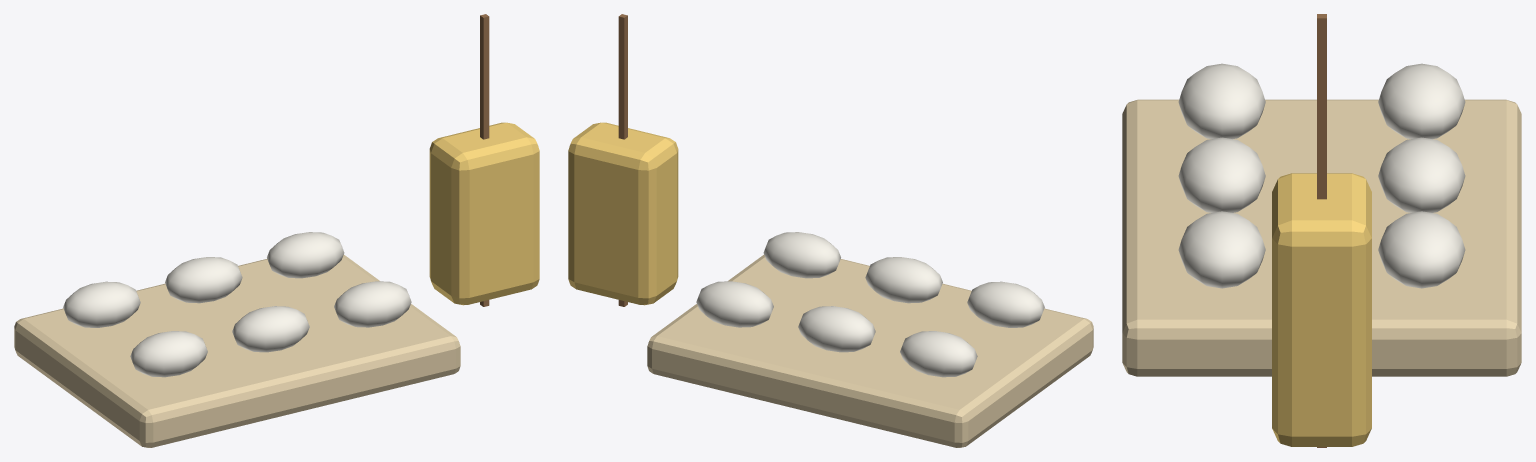
File: DumplingFishcake_blockout.glb
3 renders of one model, left to right at view 1: azimuth 30°, elevation 25°; view 2: azimuth 150°, elevation 25°; view 3: azimuth 270°, elevation 25°, orthographic. The views are drawn at different scales.
Visible parts, largest first — view 1: FOOD10_DumplingFishcake_Box_L0, FOOD10_DumplingFishcake_Fishcake_L0, FOOD10_DumplingFishcake_Dumpling2_L0, FOOD10_DumplingFishcake_Dumpling5_L0, FOOD10_DumplingFishcake_Dumpling1_L0, FOOD10_DumplingFishcake_Dumpling4_L0, FOOD10_DumplingFishcake_Dumpling0_L0, FOOD10_DumplingFishcake_Dumpling3_L0, FOOD10_DumplingFishcake_Skewer_L0; view 2: FOOD10_DumplingFishcake_Box_L0, FOOD10_DumplingFishcake_Fishcake_L0, FOOD10_DumplingFishcake_Dumpling5_L0, FOOD10_DumplingFishcake_Dumpling2_L0, FOOD10_DumplingFishcake_Dumpling4_L0, FOOD10_DumplingFishcake_Dumpling1_L0, FOOD10_DumplingFishcake_Dumpling0_L0, FOOD10_DumplingFishcake_Dumpling3_L0, FOOD10_DumplingFishcake_Skewer_L0; view 3: FOOD10_DumplingFishcake_Box_L0, FOOD10_DumplingFishcake_Fishcake_L0, FOOD10_DumplingFishcake_Dumpling2_L0, FOOD10_DumplingFishcake_Dumpling5_L0, FOOD10_DumplingFishcake_Dumpling1_L0, FOOD10_DumplingFishcake_Dumpling4_L0, FOOD10_DumplingFishcake_Dumpling0_L0, FOOD10_DumplingFishcake_Dumpling3_L0, FOOD10_DumplingFishcake_Skewer_L0.
Boxes of the visible parts, x1,y1,x2,y2 form: FOOD10_DumplingFishcake_Box_L0: (14, 255, 460, 447); FOOD10_DumplingFishcake_Fishcake_L0: (429, 122, 539, 305); FOOD10_DumplingFishcake_Dumpling2_L0: (334, 281, 411, 327); FOOD10_DumplingFishcake_Dumpling5_L0: (267, 232, 344, 278); FOOD10_DumplingFishcake_Dumpling1_L0: (232, 306, 309, 352); FOOD10_DumplingFishcake_Dumpling4_L0: (165, 257, 242, 303); FOOD10_DumplingFishcake_Dumpling0_L0: (130, 331, 207, 377); FOOD10_DumplingFishcake_Dumpling3_L0: (63, 281, 140, 327); FOOD10_DumplingFishcake_Skewer_L0: (480, 14, 489, 306); FOOD10_DumplingFishcake_Box_L0: (647, 255, 1093, 447); FOOD10_DumplingFishcake_Fishcake_L0: (568, 122, 678, 305); FOOD10_DumplingFishcake_Dumpling5_L0: (696, 281, 773, 327); FOOD10_DumplingFishcake_Dumpling2_L0: (763, 232, 840, 278); FOOD10_DumplingFishcake_Dumpling4_L0: (798, 306, 875, 352); FOOD10_DumplingFishcake_Dumpling1_L0: (865, 257, 942, 303); FOOD10_DumplingFishcake_Dumpling0_L0: (967, 281, 1044, 327); FOOD10_DumplingFishcake_Dumpling3_L0: (900, 331, 977, 377); FOOD10_DumplingFishcake_Skewer_L0: (618, 14, 627, 306); FOOD10_DumplingFishcake_Box_L0: (1122, 99, 1521, 376); FOOD10_DumplingFishcake_Fishcake_L0: (1272, 173, 1371, 446); FOOD10_DumplingFishcake_Dumpling2_L0: (1178, 211, 1265, 288); FOOD10_DumplingFishcake_Dumpling5_L0: (1378, 211, 1465, 288); FOOD10_DumplingFishcake_Dumpling1_L0: (1178, 137, 1265, 212); FOOD10_DumplingFishcake_Dumpling4_L0: (1378, 137, 1465, 212); FOOD10_DumplingFishcake_Dumpling0_L0: (1178, 63, 1265, 138); FOOD10_DumplingFishcake_Dumpling3_L0: (1378, 63, 1465, 138); FOOD10_DumplingFishcake_Skewer_L0: (1317, 14, 1326, 447).
Bounding box in the file's own units: 0.31 × 0.19 × 0.16.
